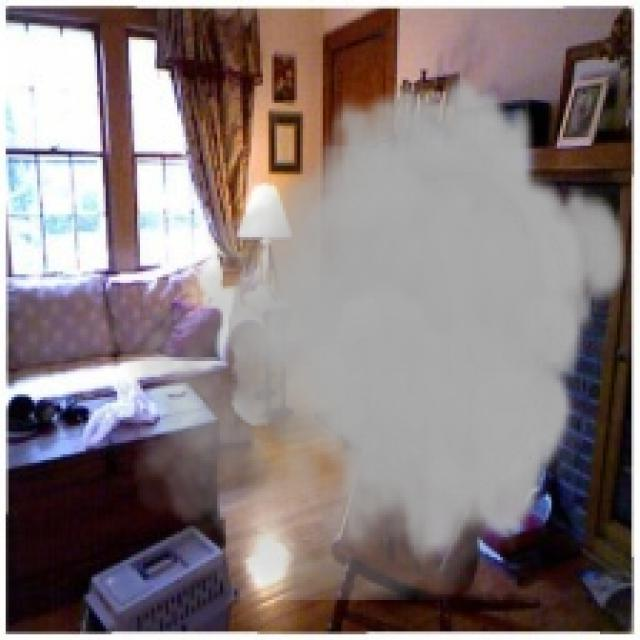smoke: (117, 71, 632, 600)
